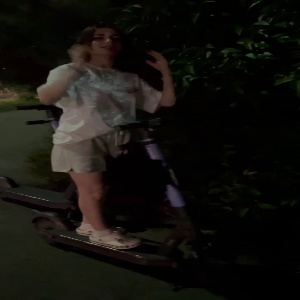human on a scooter: (28, 20, 236, 289)
